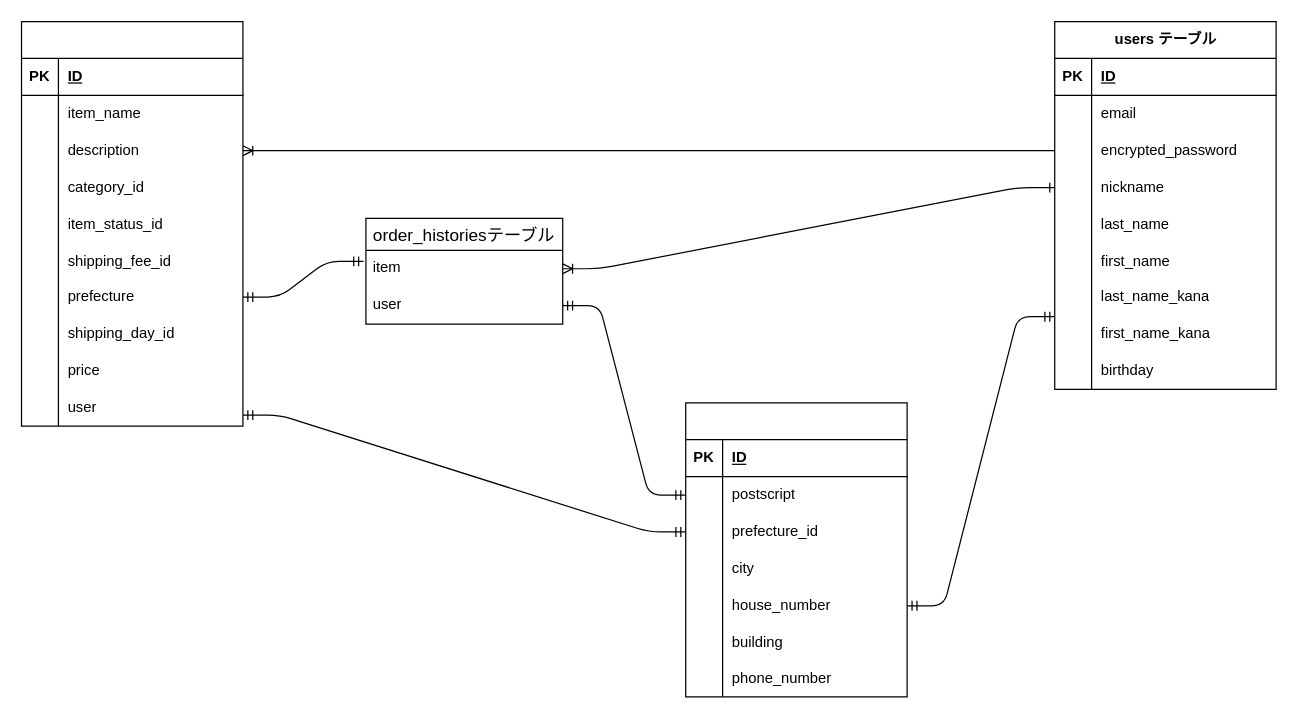
This 1298x718 diagram has some shape labels left out. Here are the shapes that lost their labels. From the top down, the box of each, then its label:
(20, 20, 243, 426): items テーブル
(684, 402, 907, 697): shippings テーブル
